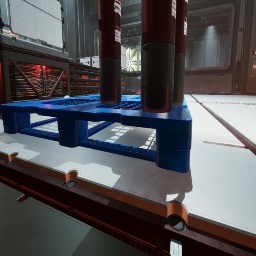0: (64, 95, 70, 98), (121, 94, 121, 95)
FirstAidBox ,: (135, 89, 141, 95)
NitrogenTank ,: (141, 0, 176, 113), (98, 0, 122, 104), (173, 0, 188, 106), (140, 0, 142, 100)
SafetySwitchPanel ,: (249, 55, 256, 77)
